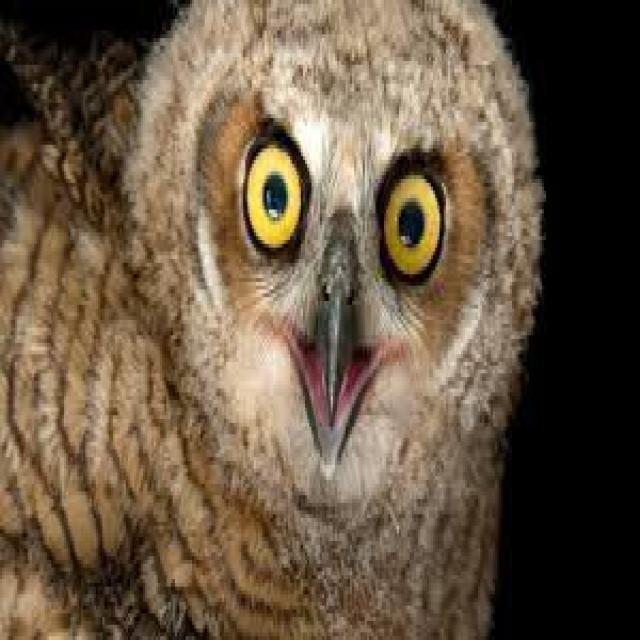Owl: (1, 2, 556, 640)
